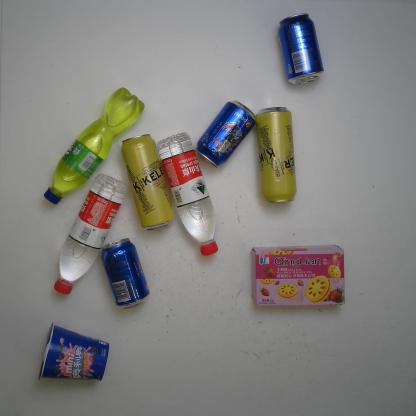Alcohol: (121, 134, 175, 231), (256, 106, 298, 204)
Dessert: (251, 245, 346, 306), (38, 322, 110, 382)
Drink: (41, 87, 145, 205), (53, 173, 128, 295), (157, 132, 219, 256), (194, 100, 256, 168), (100, 238, 150, 309), (278, 13, 324, 86)
